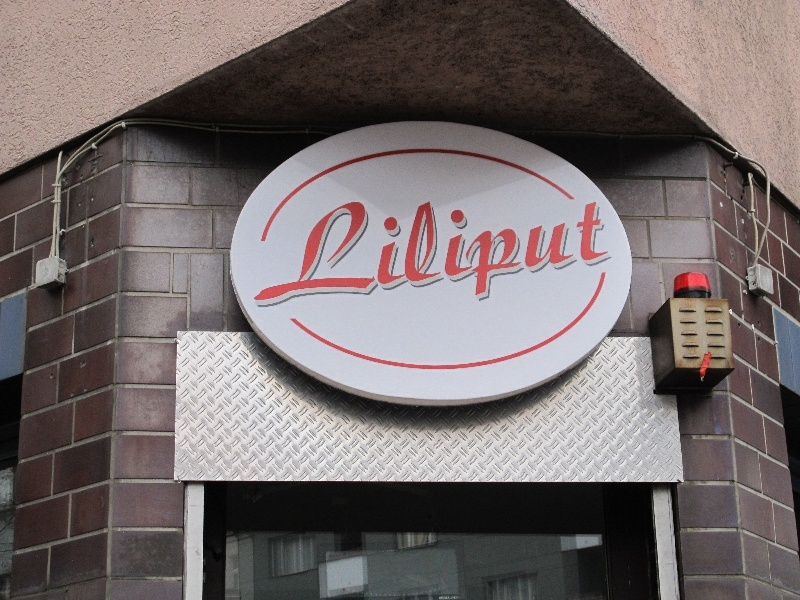text: (273, 189, 288, 306), (289, 189, 304, 306), (305, 189, 320, 306), (321, 189, 336, 306), (337, 189, 352, 306), (353, 189, 368, 306), (369, 189, 384, 306), (385, 189, 400, 306), (401, 189, 416, 306), (417, 189, 432, 306), (433, 189, 448, 306), (449, 189, 464, 306), (465, 189, 480, 306), (481, 189, 496, 306), (497, 189, 512, 306), (513, 189, 528, 306), (529, 189, 544, 306), (545, 189, 560, 306), (561, 189, 576, 306), (577, 189, 592, 306), (593, 189, 608, 306), (609, 189, 619, 306)
